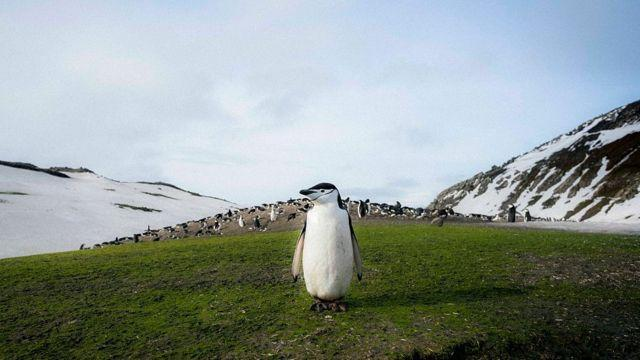chinstrap: (281, 175, 363, 318)
